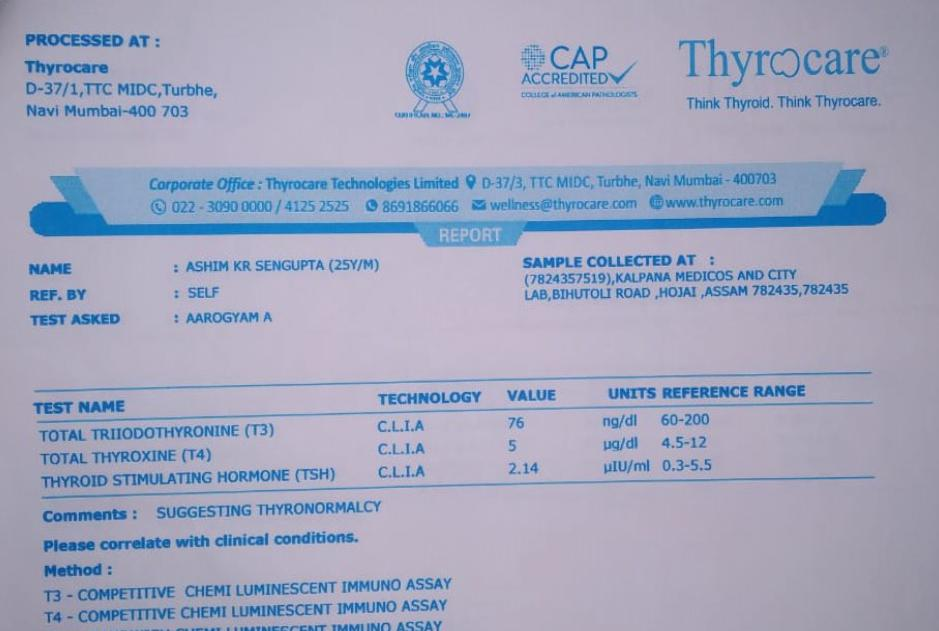Reference Range: (656, 405, 719, 481)
Test Name: (32, 416, 340, 496)
Units: (594, 406, 657, 481)
Value: (499, 408, 550, 484)
